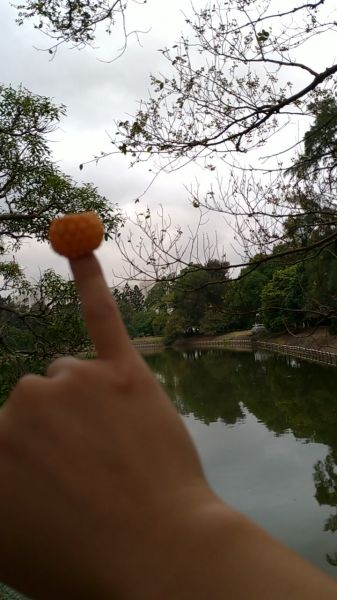eggs: (48, 212, 105, 260)
